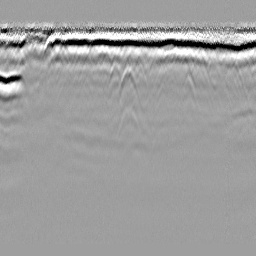cavity: (116, 64, 141, 106)
